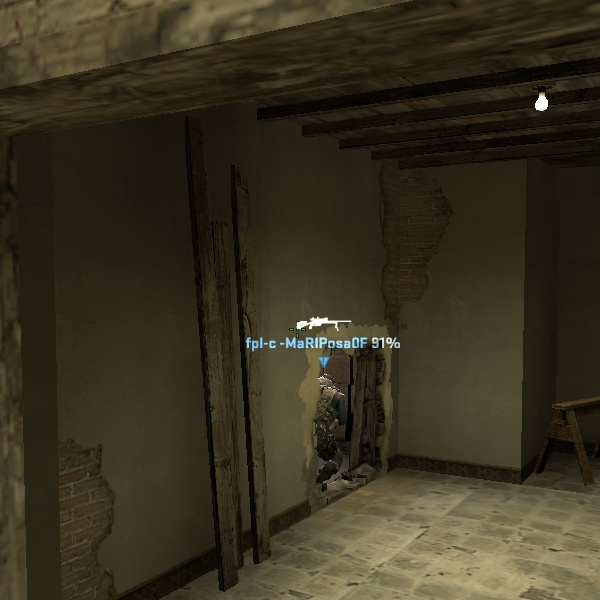ct_body: (302, 367, 360, 483)
ct_head: (312, 369, 339, 396)
